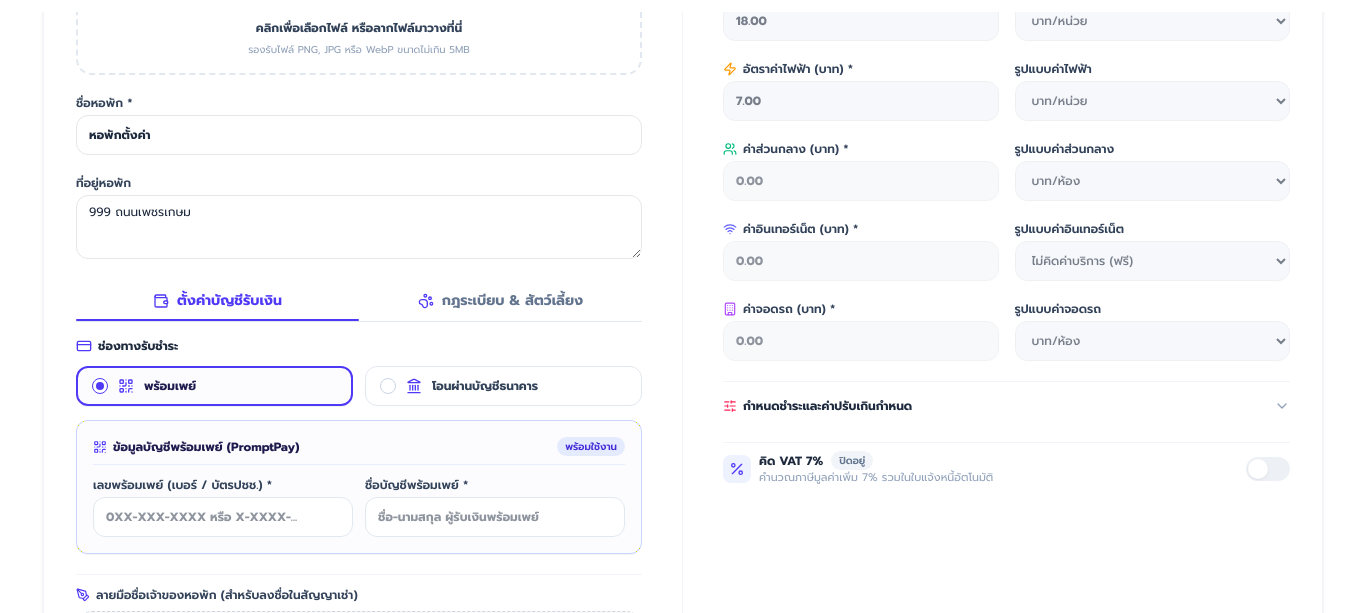
Onboarding Registration Stability & UI Parity (SPEC-ORS-01) › 2. Bank Account Name & QR Code Disabled State in Owner Settings (ORS-04) › disables bank account name and QR code uploader in Settings when bank is empty, preserving values
(page scrolled)
// Switch to payment tab
Click the button "โอนผ่านบัญชีธนาคาร" at (504, 386), box 365,366 -> 642,406
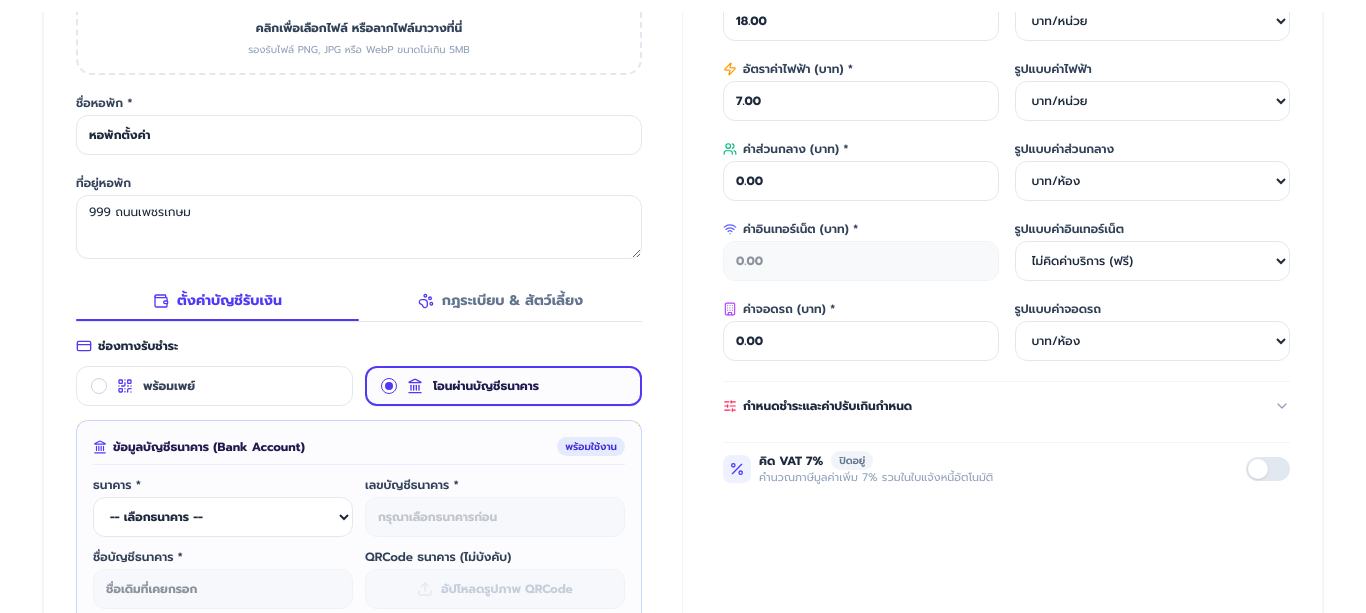
Now the field with placeholder "กรุณาเลือกธนาคารก่อน" below "ชื่อบัญชีธนาคาร *" is disabled, box 93,569 -> 353,609
Now the field with placeholder "กรุณาเลือกธนาคารก่อน" below "ชื่อบัญชีธนาคาร *" holds "ชื่อเดิมที่เคยกรอก", box 93,569 -> 353,609
Now the button with test id "btn-bank-qr-upload" is disabled, box 365,569 -> 625,609
